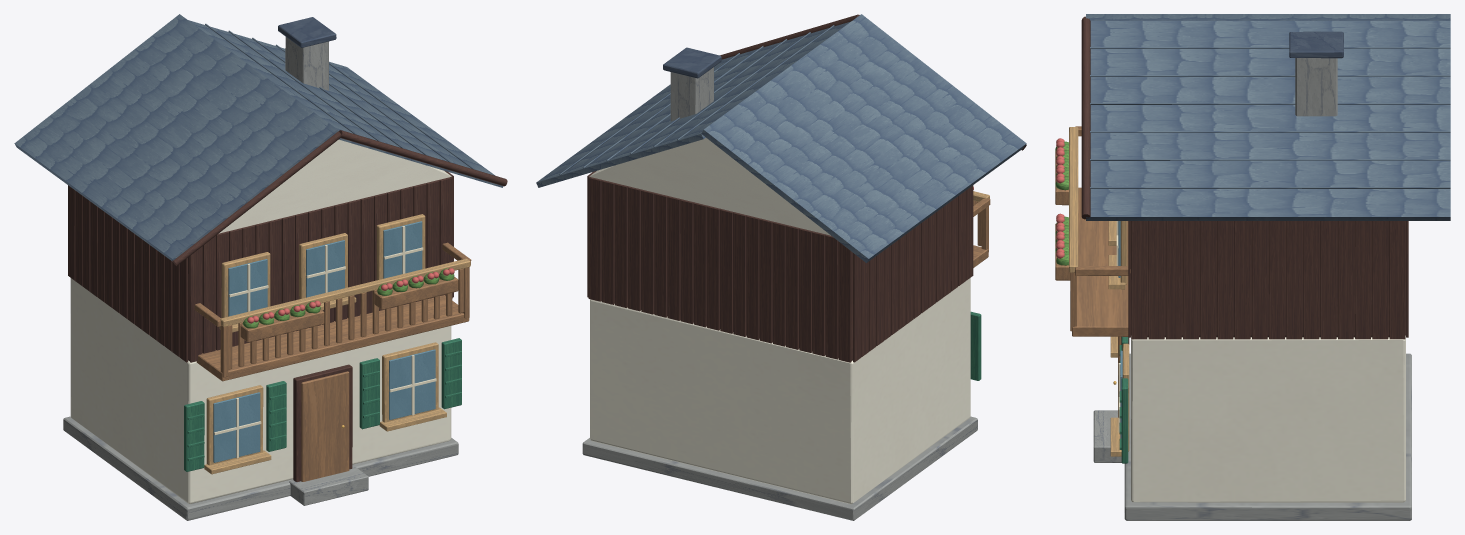
Rendered from house_2.glb.
The picture shows the model from 3 angles, left to right: view 1: azimuth 30°, elevation 25°; view 2: azimuth 150°, elevation 25°; view 3: azimuth 270°, elevation 25°; orthographic projection. The views are drawn at different scales.
Visible parts, largest first — view 1: house_2; view 2: house_2; view 3: house_2.
Part boxes in pixels (x1,y1,x2,y2): house_2: [14, 14, 507, 520]; house_2: [536, 14, 1026, 520]; house_2: [1055, 14, 1450, 520].
Bounding box in the file's own units: 6.47 × 7.08 × 5.75.
3 materials, 3 textured.
